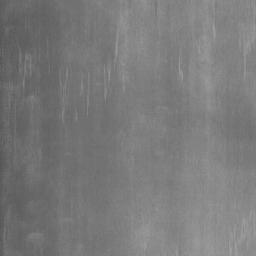Silk spot: (10, 40, 32, 84), (101, 32, 118, 79), (20, 73, 38, 99), (46, 62, 59, 91), (102, 82, 115, 107), (66, 105, 82, 124), (212, 14, 227, 30), (182, 53, 189, 77), (43, 96, 49, 108), (154, 0, 157, 16)
